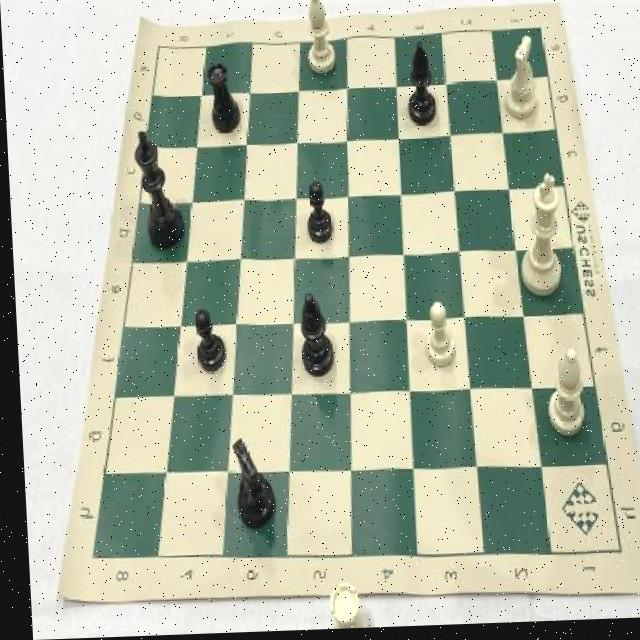bishop: (394, 32, 443, 136), (290, 288, 333, 385)
black-bishop: (126, 123, 189, 257)
black-king: (216, 434, 275, 541)
black-knight: (185, 305, 226, 380), (300, 177, 337, 252)
black-queen: (199, 55, 241, 145)
black-rook: (537, 347, 588, 447), (299, 0, 341, 79)
white-bishop: (505, 170, 568, 306)
white-king: (495, 26, 545, 133)
white-knight: (416, 296, 456, 375)
